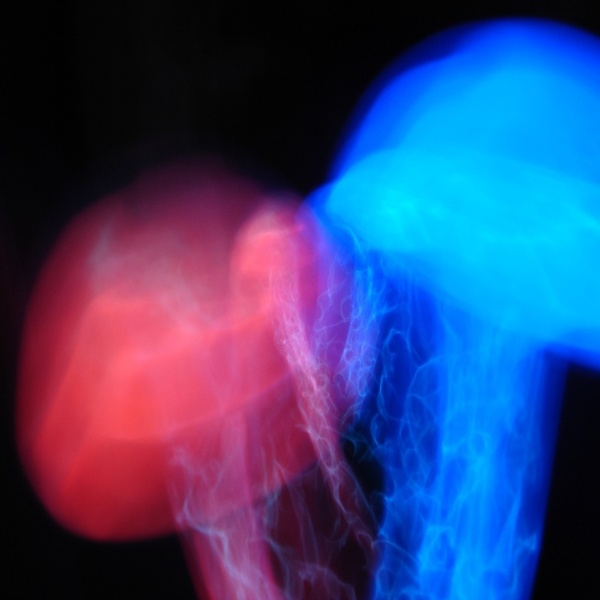Jellyfish: (302, 20, 599, 599), (0, 143, 405, 552)
